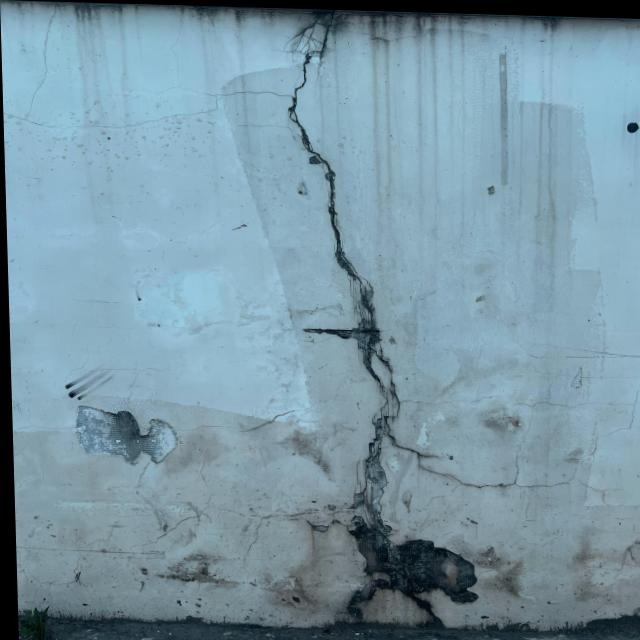crack: (262, 14, 585, 503)
damp: (18, 30, 246, 206)
spalling: (342, 503, 481, 620), (78, 403, 182, 464)
